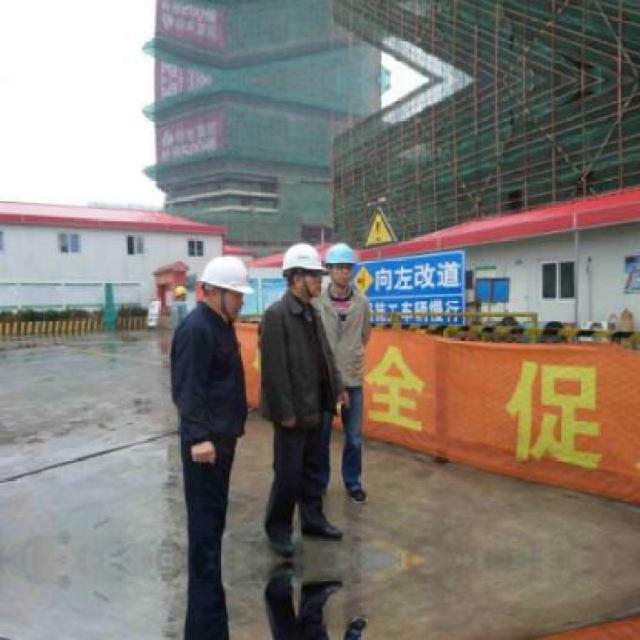helmet: (198, 255, 252, 318), (281, 242, 322, 303), (326, 242, 360, 288)
